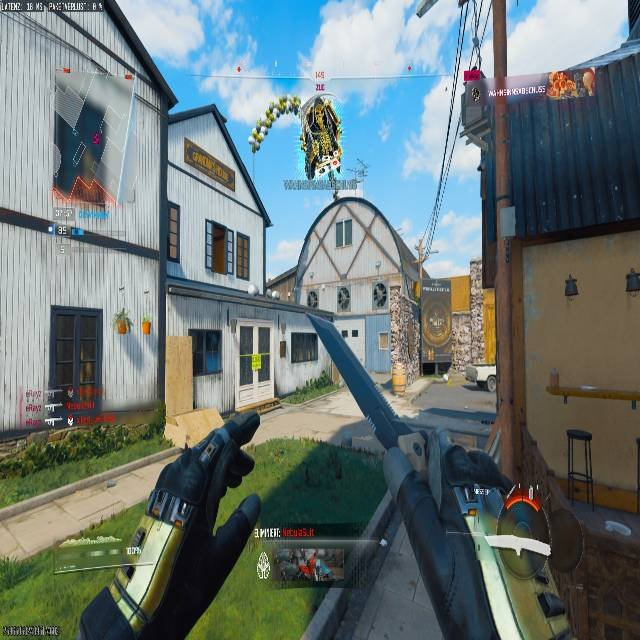player: (373, 282, 386, 307), (337, 286, 350, 310), (307, 291, 318, 309)
